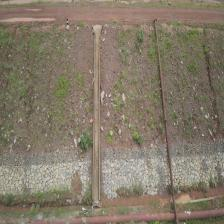rock_toe: (0, 151, 92, 195), (102, 147, 168, 195), (172, 146, 224, 185)
slope_drain: (92, 25, 102, 206)
